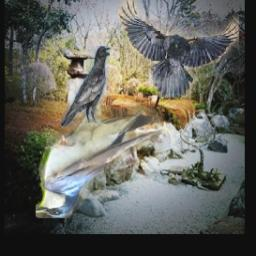Crow: (117, 0, 239, 98), (61, 47, 111, 128)
Swallow: (36, 101, 163, 218)
